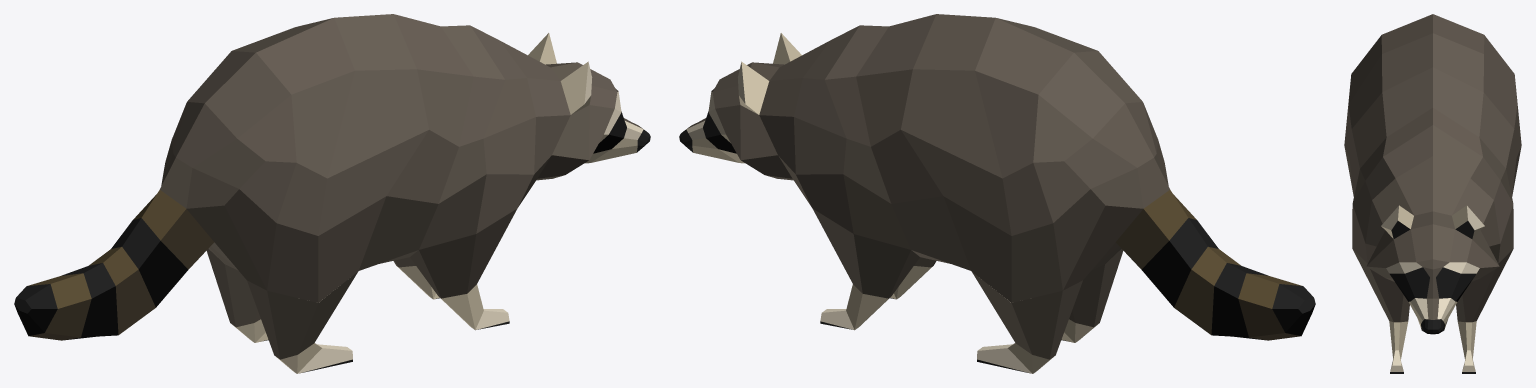
File: low_poly_raccoon.glb
3 views of the same model, side by side, from view 1: azimuth 30°, elevation 25°; view 2: azimuth 150°, elevation 25°; view 3: azimuth 270°, elevation 25° (orthographic). The views are drawn at different scales.
Parts seen in each view (by area): view 1: Plane; view 2: Plane; view 3: Plane.
Boxes of the visible parts, x1,y1,x2,y2 form: Plane: (14,14,650,373); Plane: (679,14,1315,373); Plane: (1344,14,1521,373).
Size of the model in its own units: 5.62 by 2.77 by 1.6.
